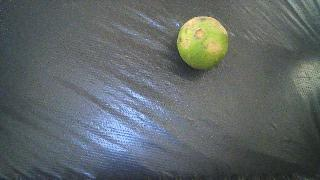DESECHO: (177, 16, 228, 70)
